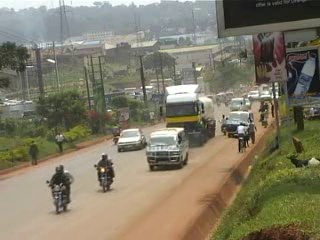Car: (115, 126, 148, 153), (243, 87, 261, 103), (240, 96, 252, 110)
Motorcycle: (44, 161, 77, 215), (92, 152, 117, 194), (110, 122, 125, 147), (217, 112, 230, 136)
